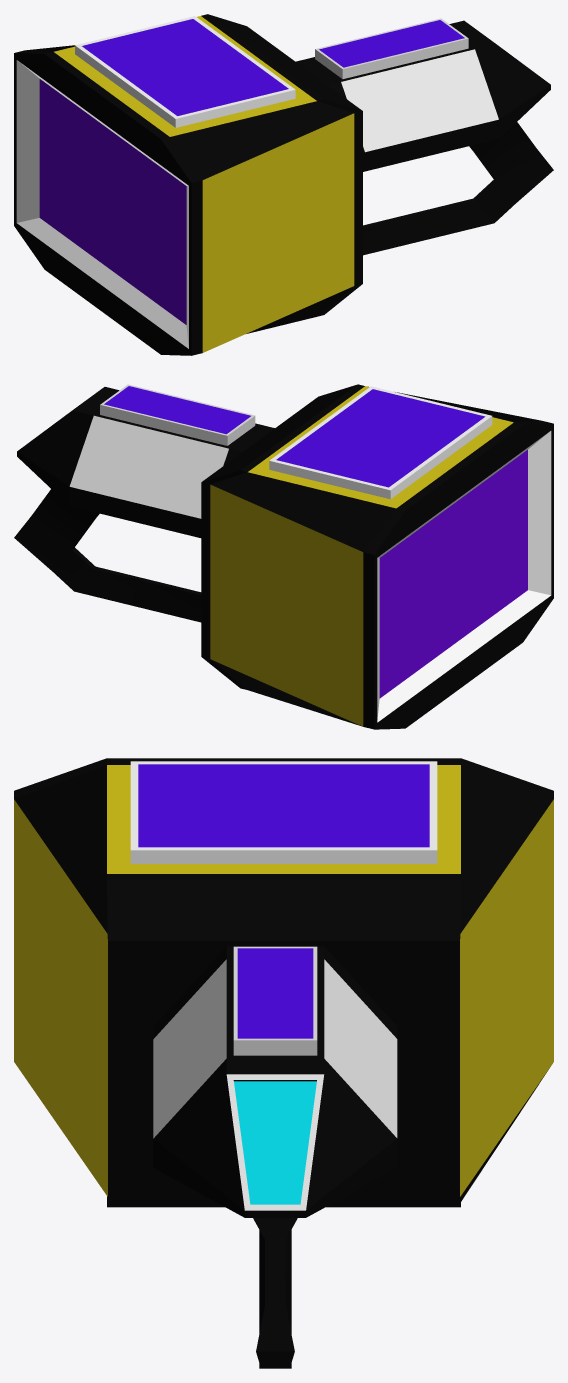
File: UVGrowupGun.fbx
3 views of the same model, one above another, from view 1: azimuth 30°, elevation 25°; view 2: azimuth 150°, elevation 25°; view 3: azimuth 270°, elevation 25° (orthographic). The views are drawn at different scales.
Parts seen in each view (by area): view 1: UVGrowupGun; view 2: UVGrowupGun; view 3: UVGrowupGun.
Part boxes in pixels (left/top/right/bottom): UVGrowupGun: left=14, top=14, right=553, bottom=355; UVGrowupGun: left=14, top=384, right=553, bottom=729; UVGrowupGun: left=14, top=758, right=553, bottom=1368.
Bounding box in the file's own units: 59.29 × 28.79 × 41.26.
